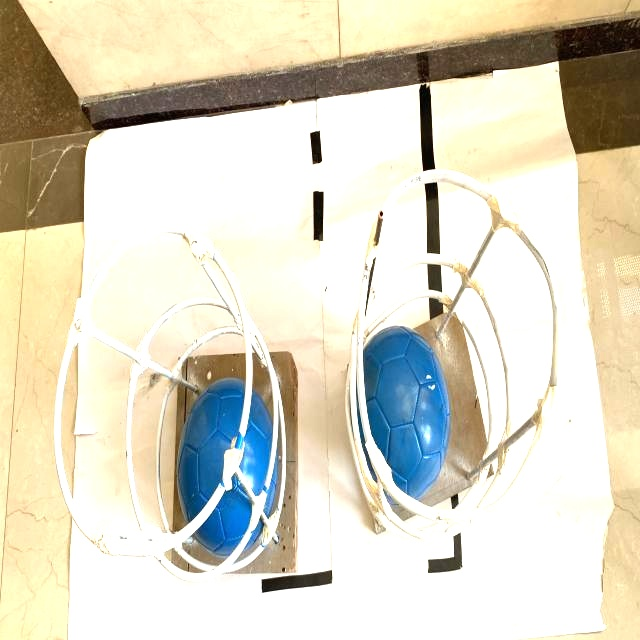blue_ball: (174, 380, 279, 553), (357, 326, 448, 507)
silo: (54, 223, 300, 576), (348, 163, 562, 548)
